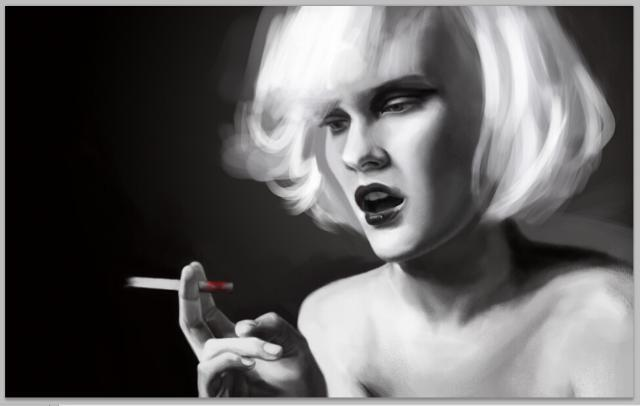SafeDriving: (374, 90, 429, 122), (314, 107, 356, 143)
Smoking: (126, 272, 237, 300)
